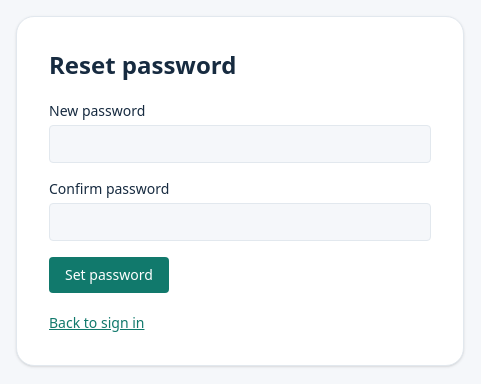
Test: completes the reset and removes its token from browser history
Type "New-password-123!" into the password field labelled "New password" at (240, 144), box top-left (49, 125), bottom-right (431, 163)
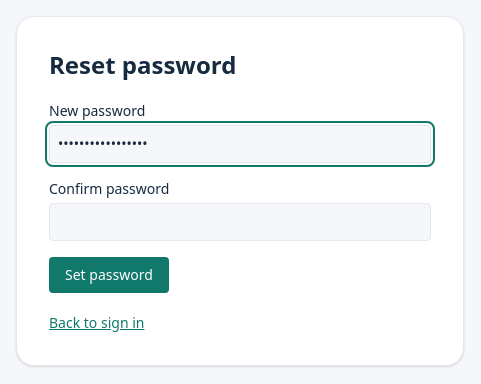
Type "New-password-123!" into the password field labelled "Confirm password" at (240, 222), box top-left (49, 203), bottom-right (431, 241)
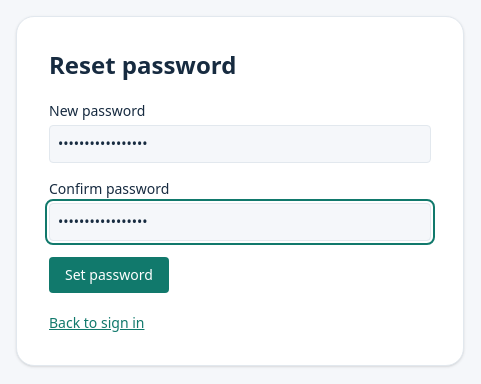
Click the button "Set password" at (109, 275), box top-left (49, 257), bottom-right (169, 293)
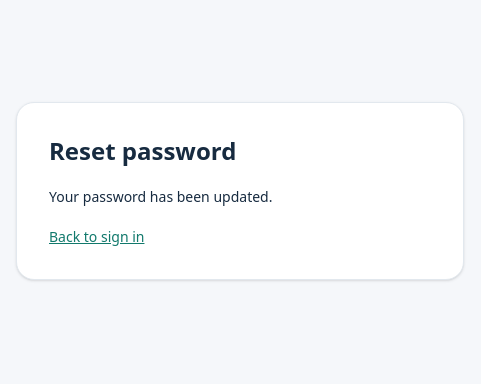
Expected: the message reads "Your password has been updated.", top-left (49, 187), bottom-right (272, 206)
